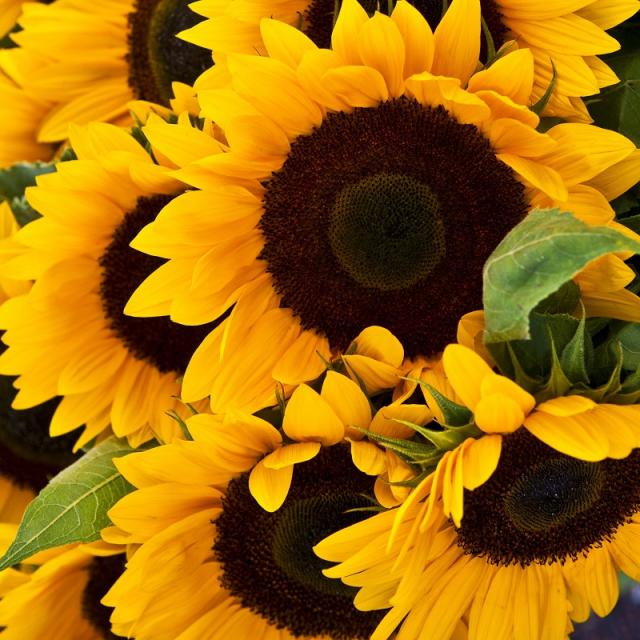sunflower: (113, 11, 629, 451), (307, 381, 640, 640), (6, 124, 270, 444)
